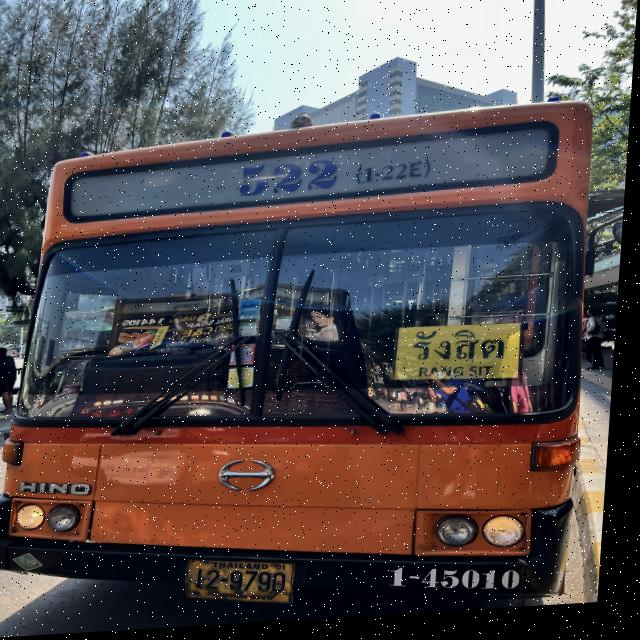BMTA-bus: (0, 100, 611, 639)
Bus-Line-Number: (226, 150, 439, 202)
Destination-Sign-Normal-Expressway: (396, 327, 527, 393)
